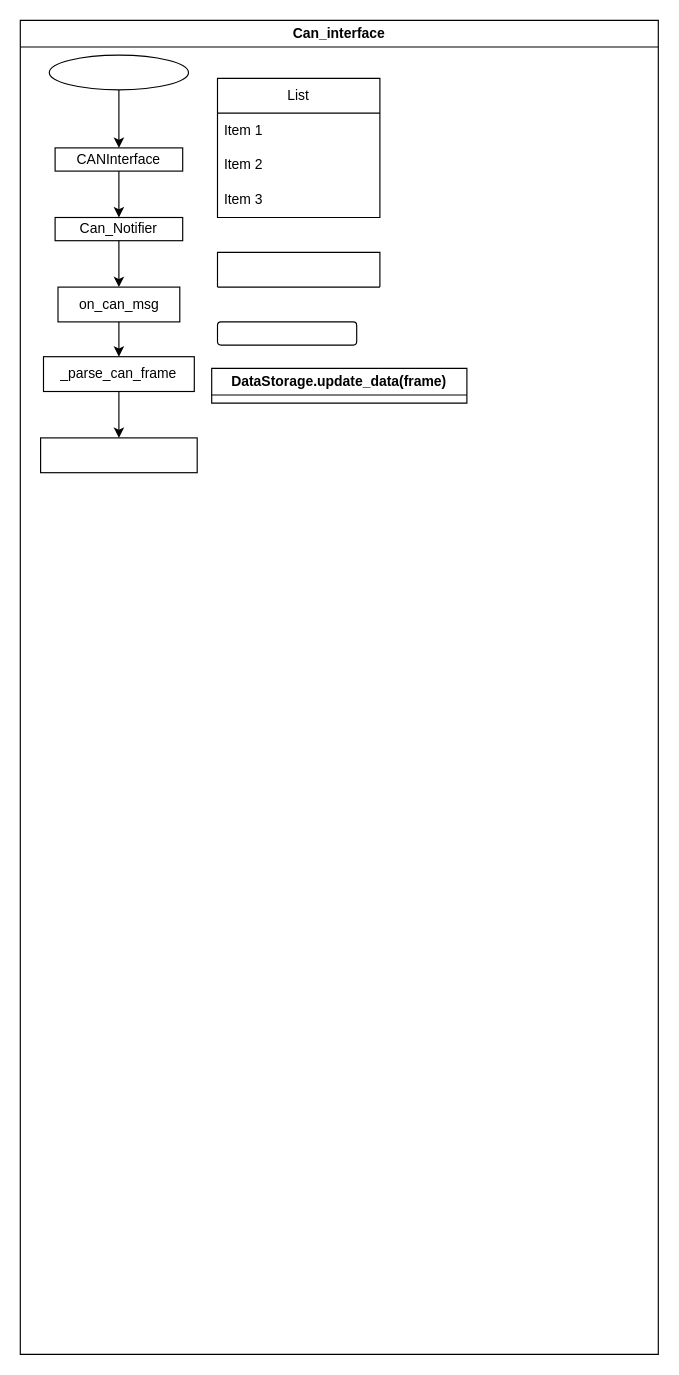
Some shapes in this 679 by 1375 pixel diagram are drawn without their labels. Here are the shapes that lost their labels. From the top down, the centre of each, then its label:
At pixel 118 72: "Can_Api".
At pixel 298 269: "search_pcan_info{}".
At pixel 286 333: "search_pcan_device".
At pixel 118 455: "process_parsed_frame".
